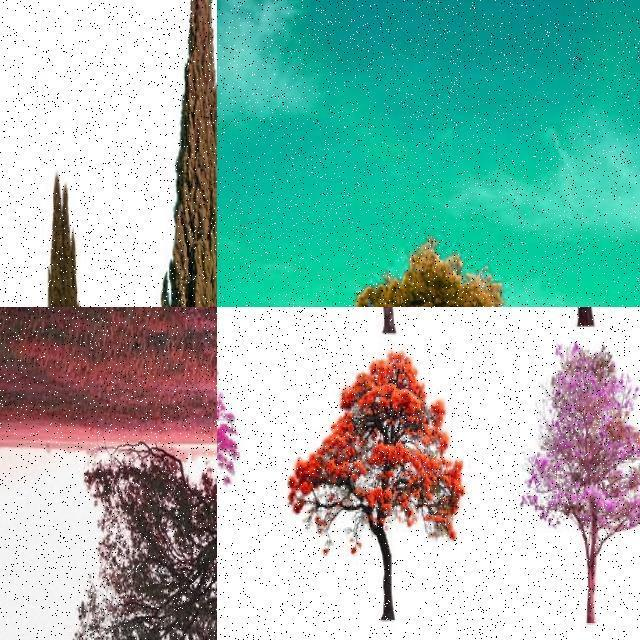tree: (295, 334, 465, 618), (510, 340, 640, 628), (78, 435, 217, 640), (308, 306, 472, 466), (483, 307, 640, 459), (217, 335, 289, 613), (216, 308, 332, 452), (164, 1, 216, 308), (345, 236, 521, 308), (0, 1, 32, 308), (40, 172, 84, 308)
